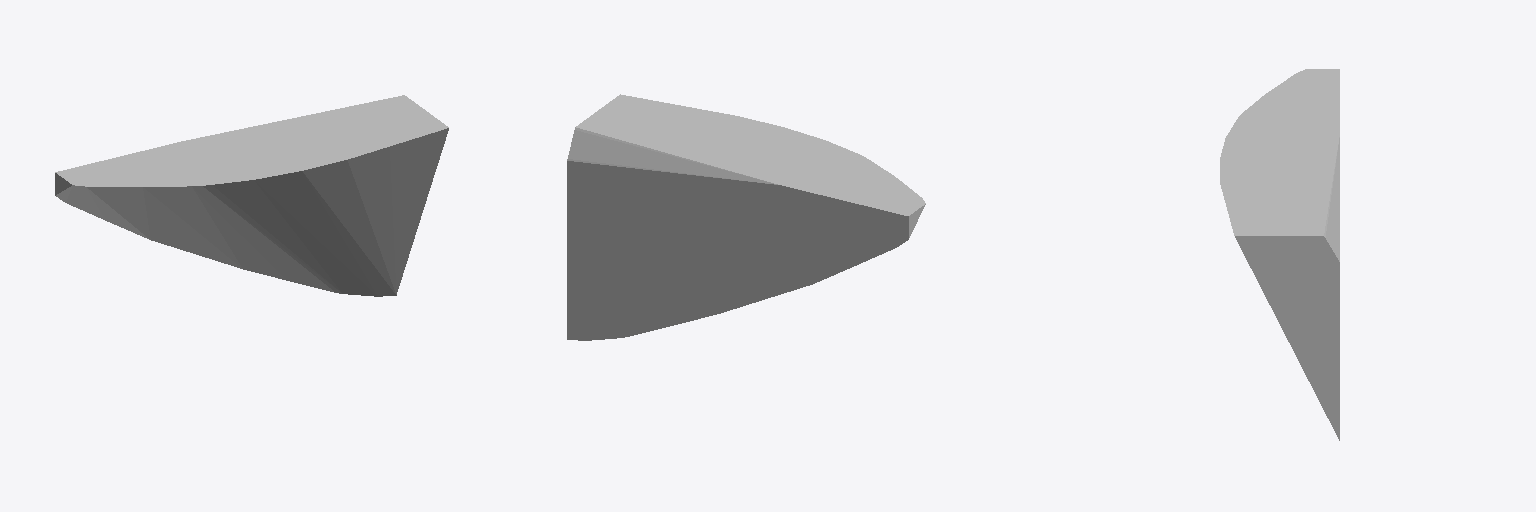
File: phantom-elastrat_collision_284.obj
3 renders of one model, left to right at view 1: azimuth 30°, elevation 25°; view 2: azimuth 150°, elevation 25°; view 3: azimuth 270°, elevation 25°, orthographic.
Bounding box in the file's own units: 0.0087 × 0.005 × 0.0027.